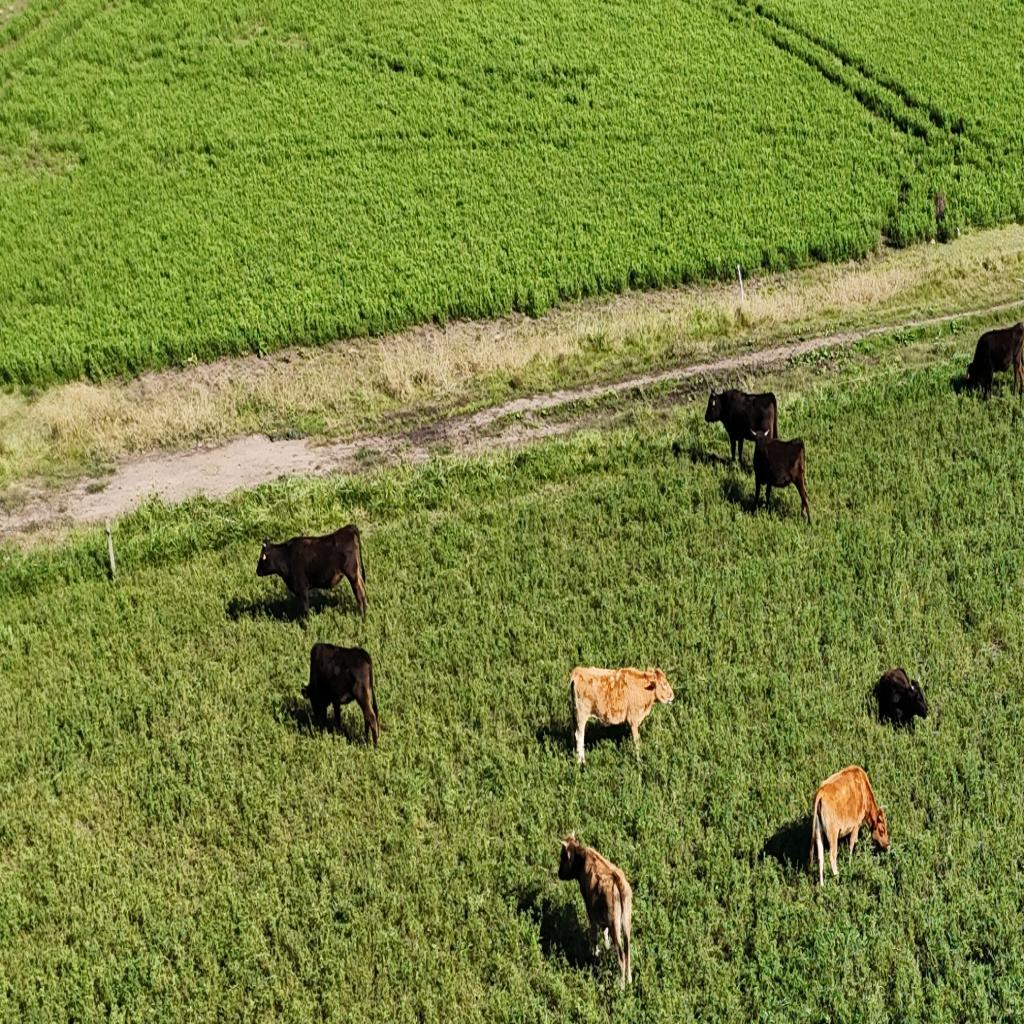cow: (552, 824, 632, 989), (567, 660, 676, 764), (256, 525, 368, 623), (810, 764, 891, 887), (304, 640, 380, 745), (705, 389, 779, 471), (750, 433, 814, 525), (961, 312, 1024, 399), (874, 667, 930, 730)
